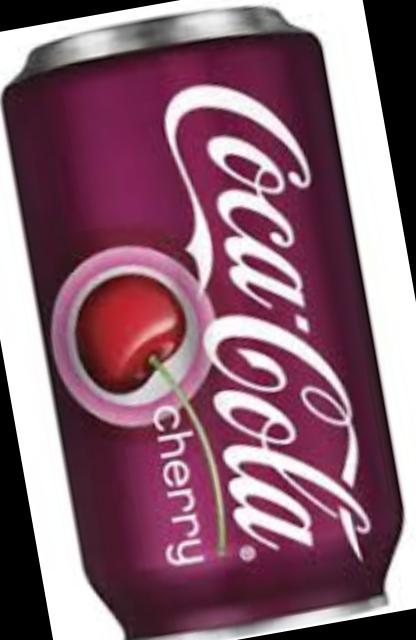metal: (7, 12, 406, 640)
